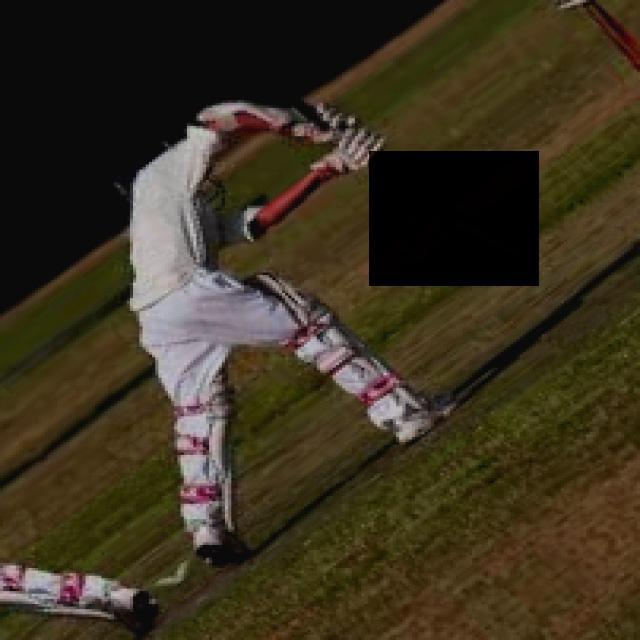bat: (365, 149, 542, 289)
